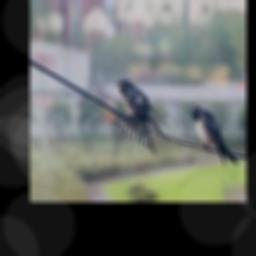Swallow: (112, 78, 170, 157), (192, 106, 238, 170)
